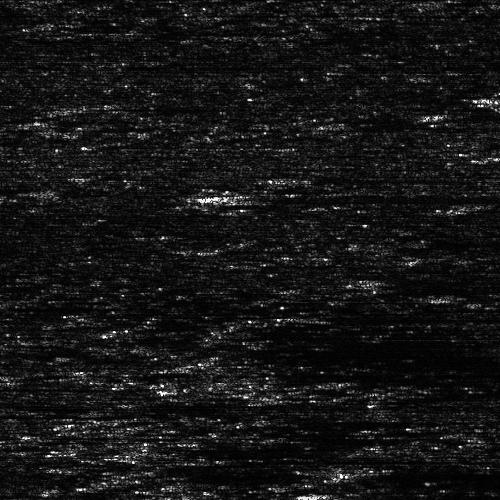rock: (83, 186, 374, 207), (301, 465, 394, 478), (294, 491, 367, 500), (272, 175, 335, 180)
shadow: (229, 186, 489, 207), (348, 465, 500, 478), (331, 491, 500, 500), (304, 175, 476, 180), (0, 381, 38, 392)
